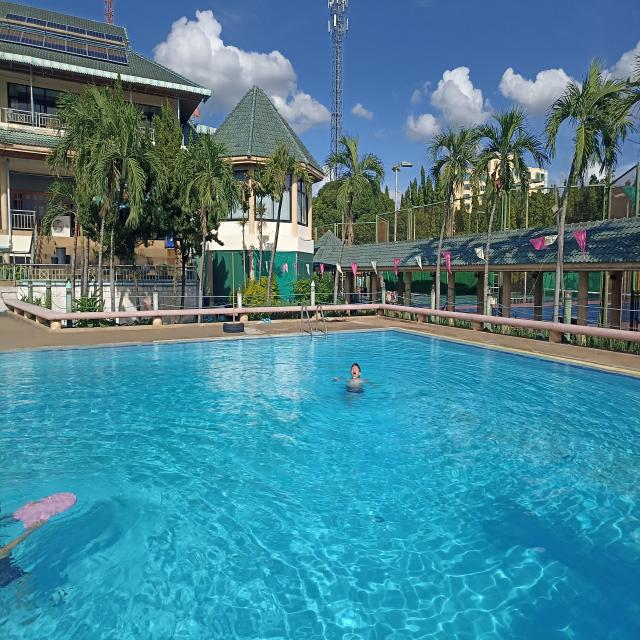Swimming: (322, 359, 386, 402)
